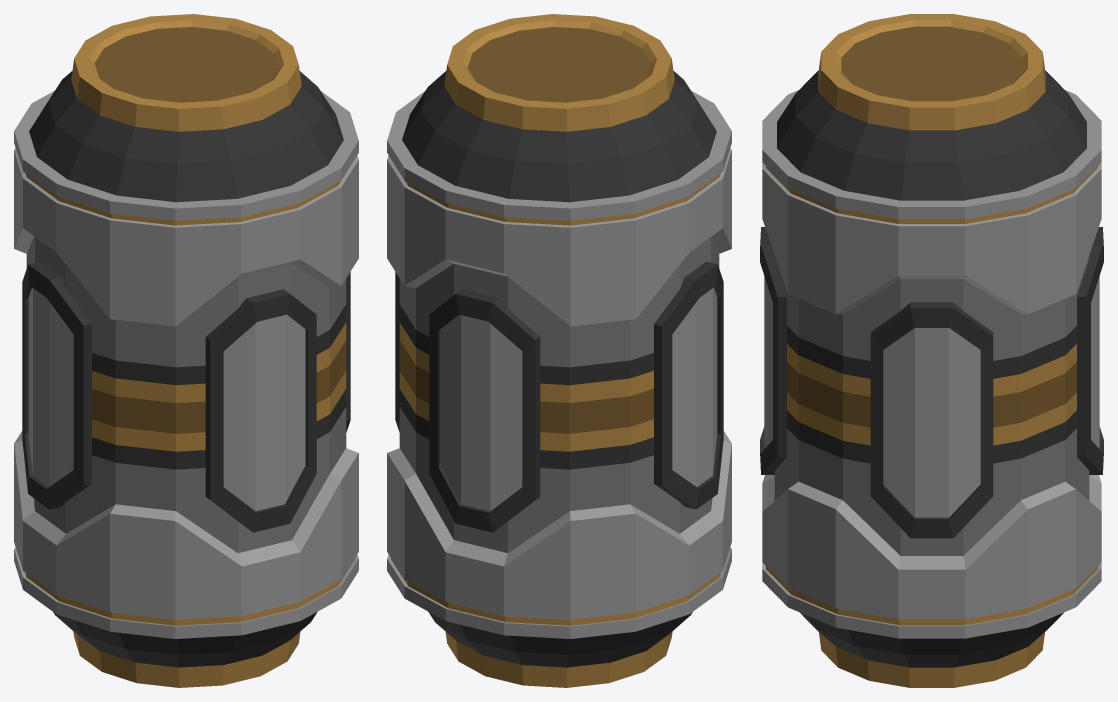
File: Lab_Props_Capsule.gltf
The picture shows the model from 3 angles, left to right: view 1: azimuth 30°, elevation 25°; view 2: azimuth 150°, elevation 25°; view 3: azimuth 270°, elevation 25°; orthographic projection.
Parts seen in each view (by area): view 1: Lab_Props_Capsule; view 2: Lab_Props_Capsule; view 3: Lab_Props_Capsule.
Boxes of the visible parts, <box> form: Lab_Props_Capsule: <box>14,14,358,687</box>; Lab_Props_Capsule: <box>387,14,731,687</box>; Lab_Props_Capsule: <box>760,14,1103,687</box>.
Size of the model in its own units: 1.07 by 2 by 1.07.
